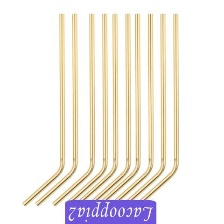drinking_straw: (19, 11, 71, 209)
